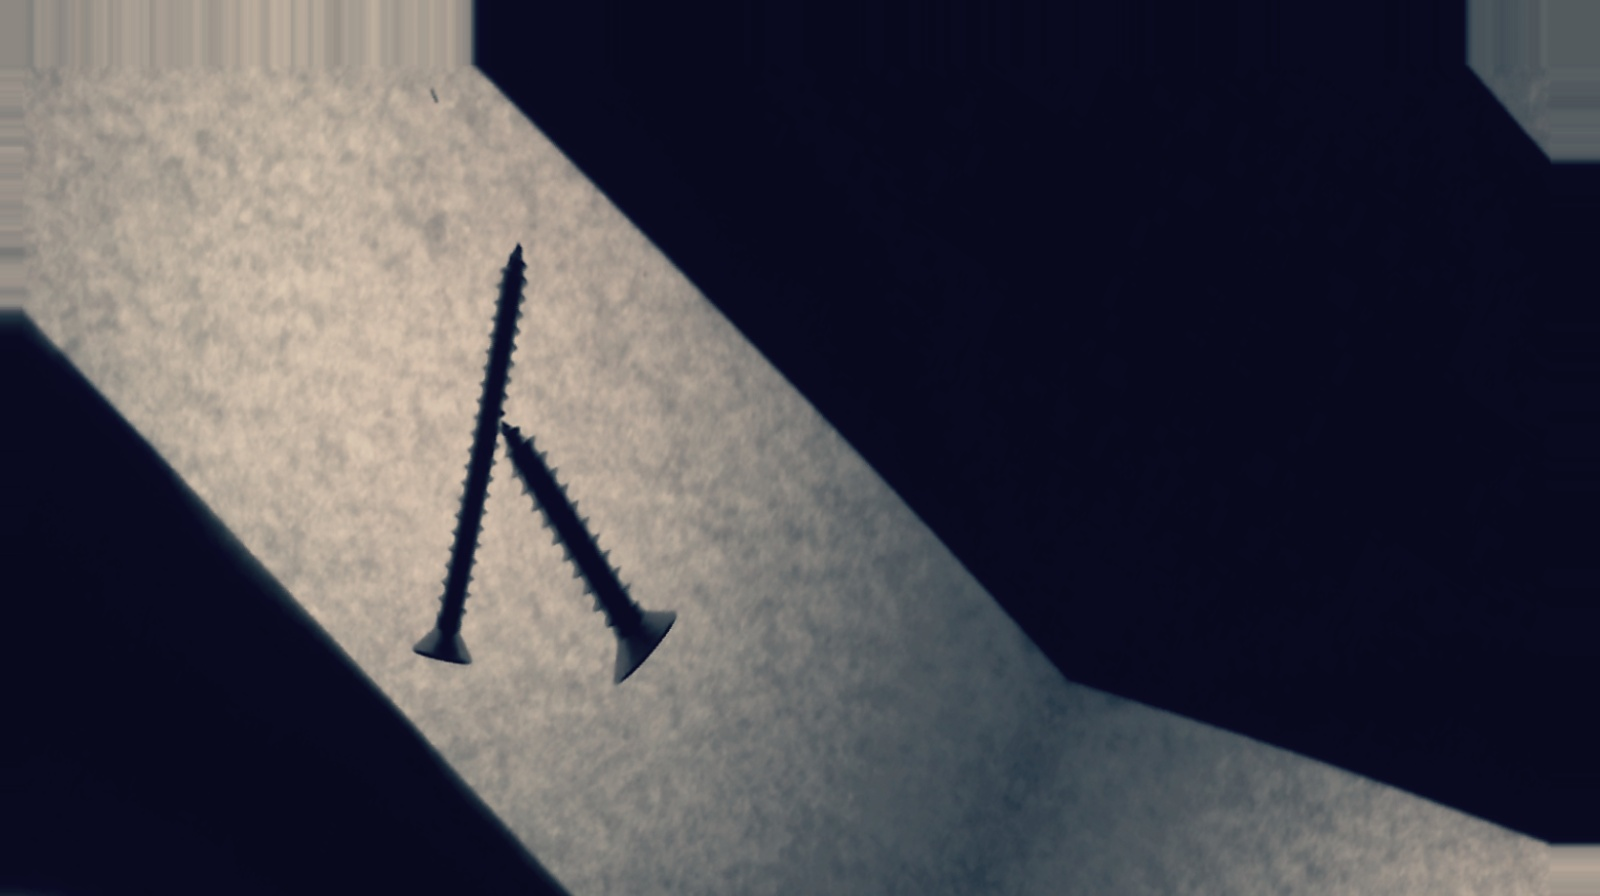S001: (427, 409, 715, 706)
S002: (336, 222, 636, 699)
